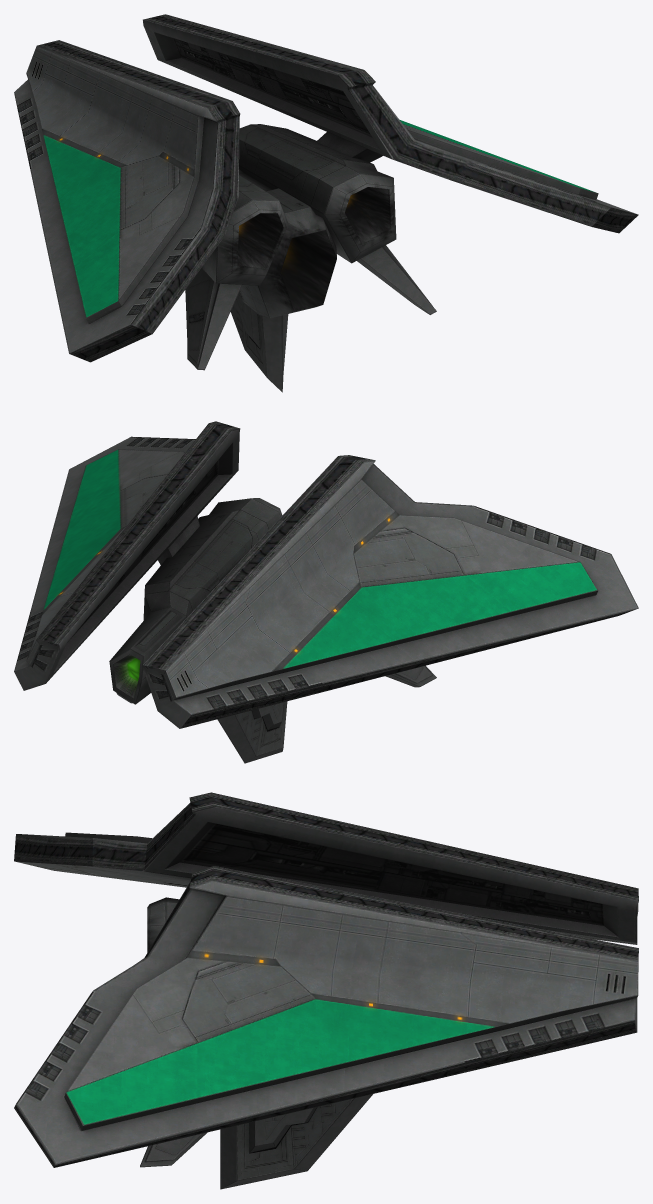
The model's file is drone_fighter.glb.
3 views of the same model, one above another, from view 1: azimuth 30°, elevation 25°; view 2: azimuth 150°, elevation 25°; view 3: azimuth 270°, elevation 25° (orthographic). The views are drawn at different scales.
Parts seen in each view (by area): view 1: L_wing, detail0, R_wing; view 2: L_wing, R_wing, detail0; view 3: R_wing, L_wing, detail0.
Part boxes in pixels (<box>): L_wing: <box>14,40,240,362</box>; detail0: <box>185,124,436,392</box>; R_wing: <box>143,14,638,233</box>; L_wing: <box>142,455,638,728</box>; R_wing: <box>14,421,240,690</box>; detail0: <box>109,498,436,763</box>; R_wing: <box>14,866,638,1167</box>; L_wing: <box>14,792,638,944</box>; detail0: <box>140,897,372,1189</box>.
Size of the model in its own units: 30.92 by 15.9 by 25.48.
1 material, 1 textured.
